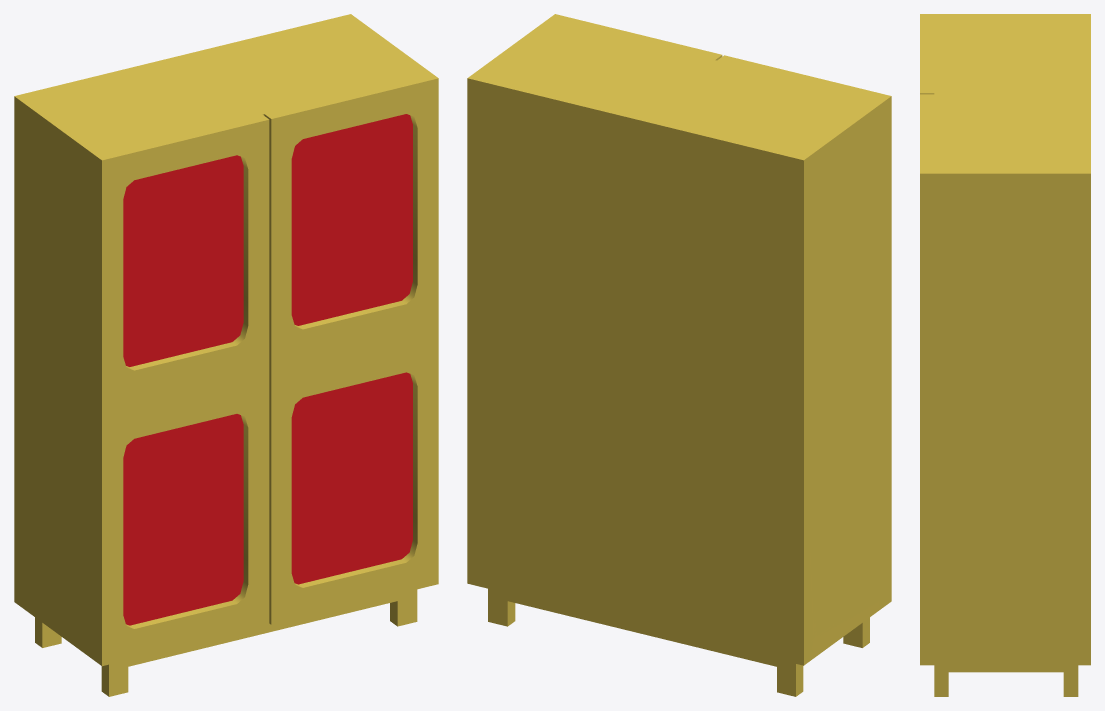
File: closet2.fbx
3 views of the same model, side by side, from view 1: azimuth 30°, elevation 25°; view 2: azimuth 150°, elevation 25°; view 3: azimuth 270°, elevation 25° (orthographic). The views are drawn at different scales.
Parts seen in each view (by area): view 1: closet; view 2: closet; view 3: closet.
Part boxes in pixels (left/top/right/bottom): closet: left=14, top=14, right=438, bottom=696; closet: left=467, top=14, right=891, bottom=696; closet: left=920, top=14, right=1090, bottom=696.
Size of the model in its own units: 139 by 216 by 62.96.
